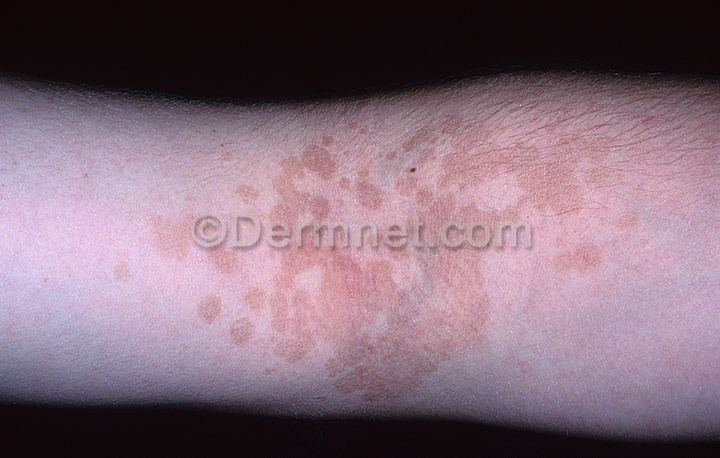Melasma: (190, 266, 570, 414), (238, 132, 605, 220)
